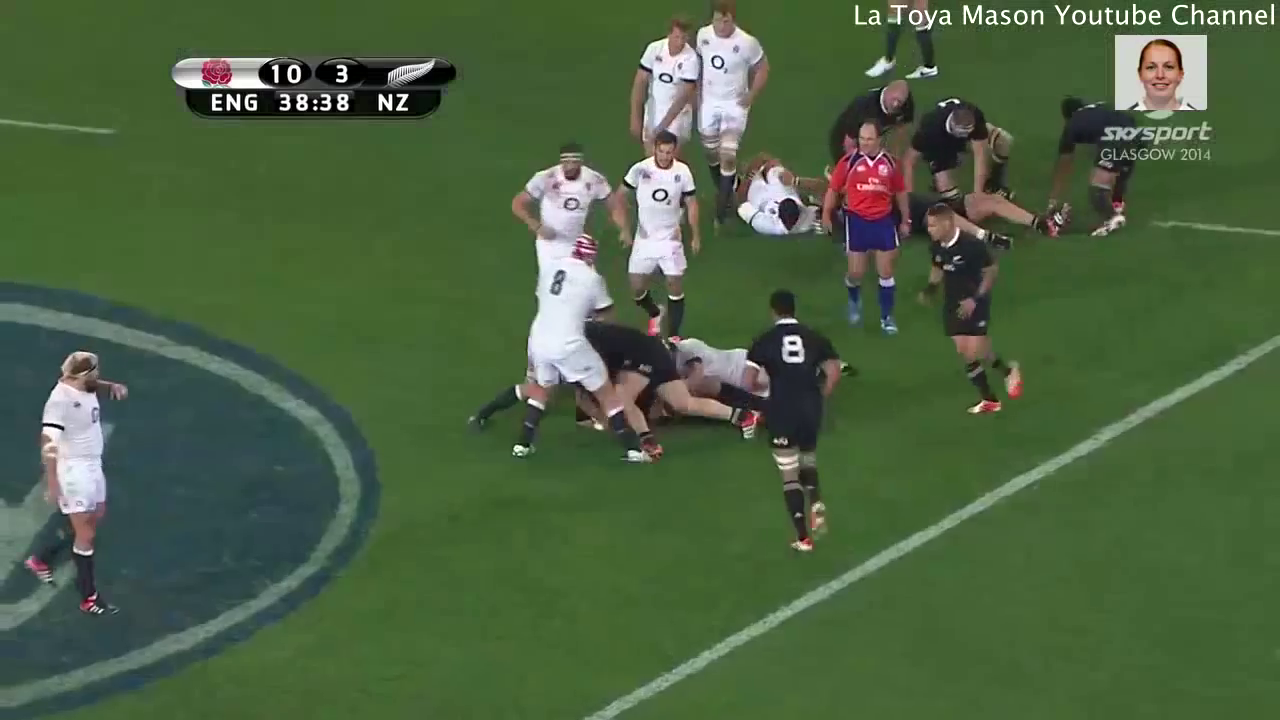player: (501, 228, 661, 476), (9, 338, 135, 624), (741, 280, 854, 556), (560, 309, 758, 452), (917, 196, 1032, 418), (817, 113, 914, 364), (681, 1, 776, 241), (618, 124, 715, 355), (509, 132, 631, 303), (1046, 86, 1148, 244), (621, 5, 704, 176), (907, 77, 1020, 202), (715, 149, 841, 251), (672, 323, 771, 413), (823, 71, 921, 161)
ruck: (477, 270, 833, 442)
